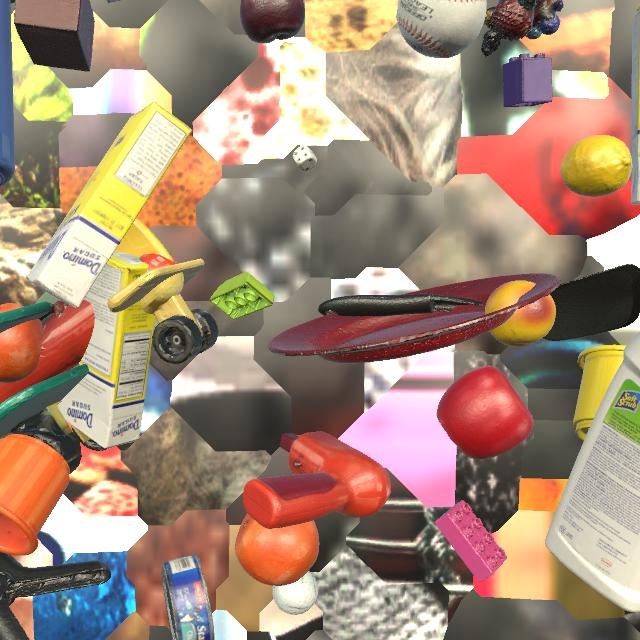ycb_004_sugar_box: (26, 101, 193, 308), (58, 250, 155, 449), (631, 5, 640, 205)
ycb_007_tuna_fish_can: (161, 553, 215, 640)
ycb_008_pudding_box: (106, 0, 120, 3)
ycb_013_apple: (437, 366, 534, 459)
ycb_014_lemon: (560, 135, 632, 197)
ycb_015_peach: (485, 280, 556, 347)
ycb_017_orange: (235, 513, 319, 586), (0, 303, 43, 383)
ycb_018_plum: (240, 0, 305, 44)
